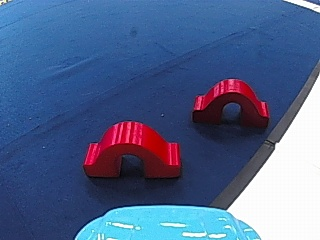bridge: (79, 114, 180, 180), (188, 74, 274, 127)
